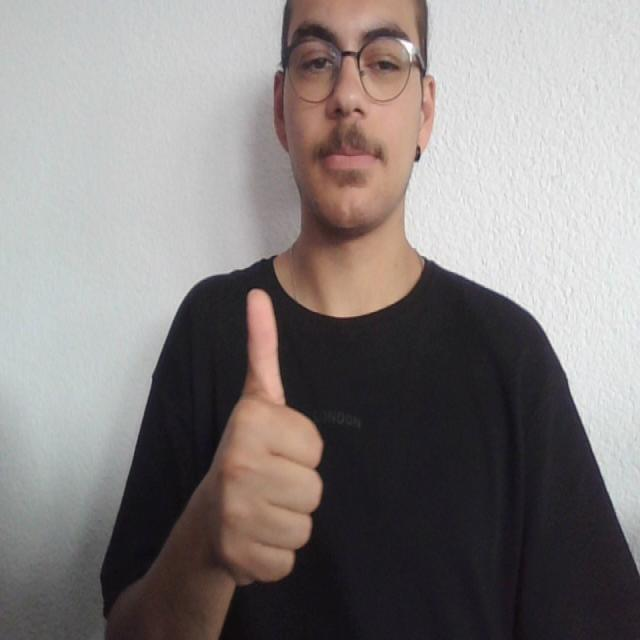Tamam: (191, 278, 330, 594)
